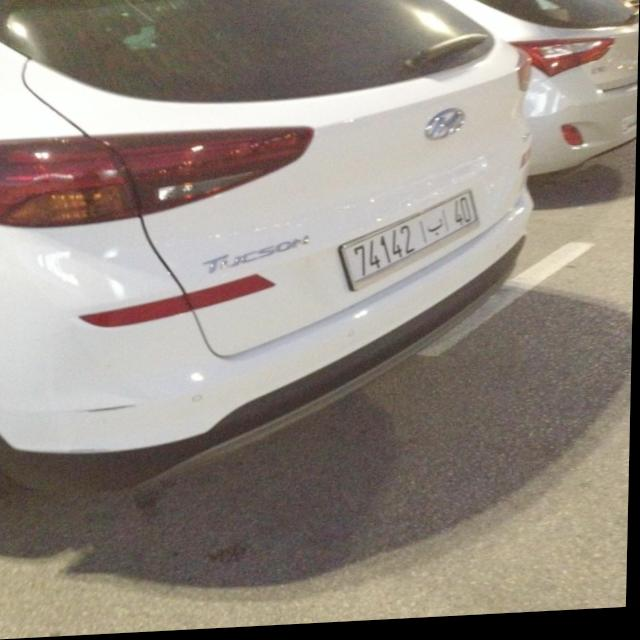License-Plate: (340, 196, 479, 292)
